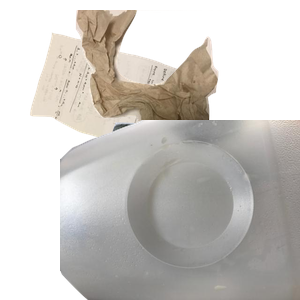glass: (86, 120, 277, 300)
paper: (27, 30, 203, 178)
plastic: (60, 120, 300, 300)
trash: (73, 10, 300, 163)
